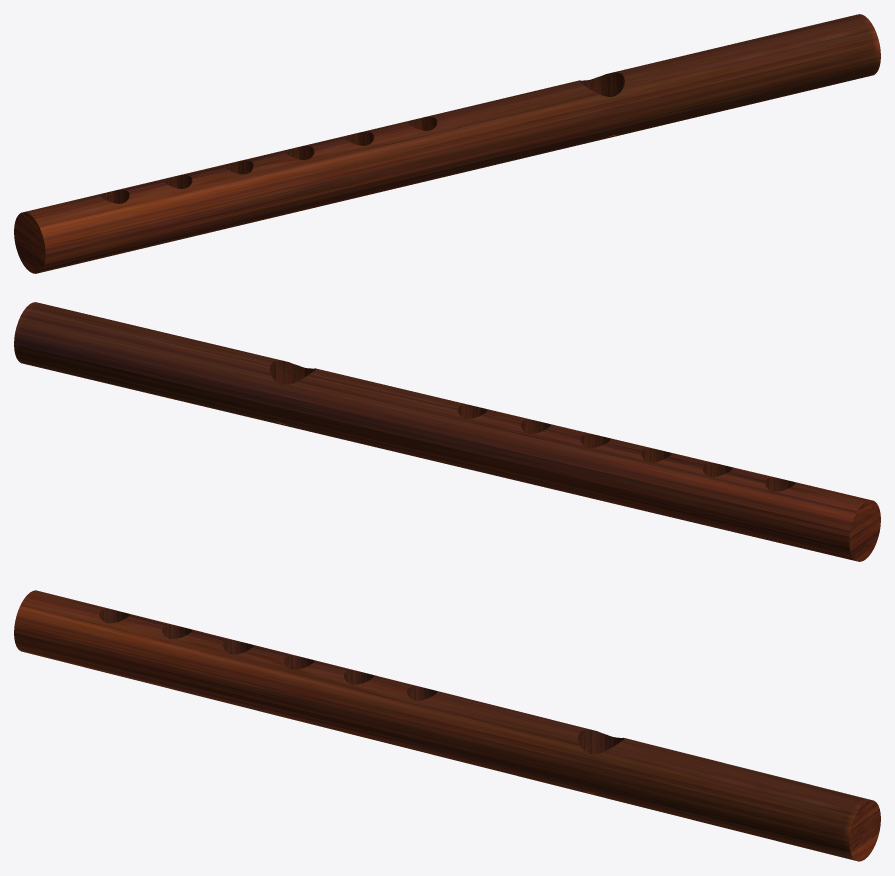
The model's file is suling.glb.
3 renders of one model, top to bottom at view 1: azimuth 30°, elevation 25°; view 2: azimuth 150°, elevation 25°; view 3: azimuth 330°, elevation 25°, orthographic.
Parts seen in each view (by area): view 1: Suling_0; view 2: Suling_0; view 3: Suling_0.
Part boxes in pixels (x1,y1,x2,y2): Suling_0: (14,14,880,273); Suling_0: (14,302,880,561); Suling_0: (14,590,880,861).
Bounding box in the file's own units: 13.76 × 0.9924 × 0.9.
Materials: 1 (1 with a texture image).
